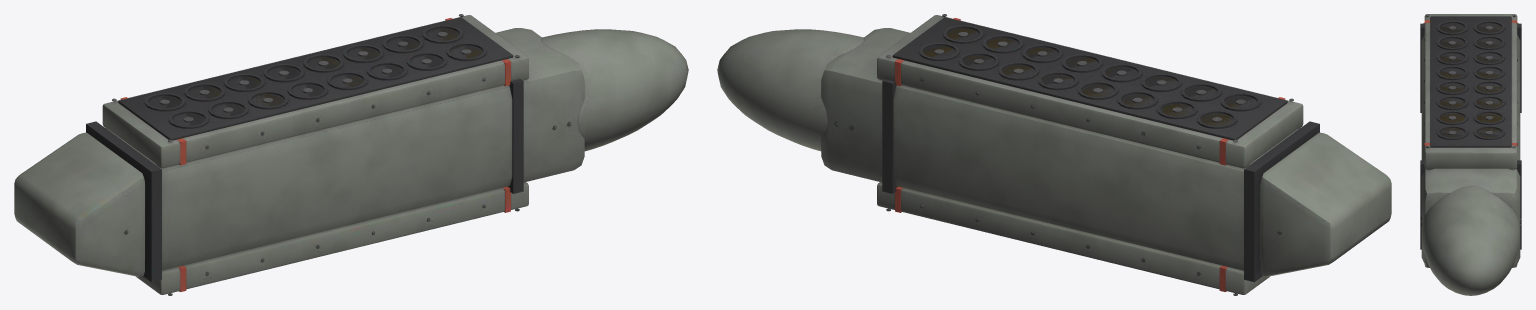
The model's file is flares_3.glb.
3 views of the same model, side by side, from view 1: azimuth 30°, elevation 25°; view 2: azimuth 150°, elevation 25°; view 3: azimuth 270°, elevation 25° (orthographic). The views are drawn at different scales.
Visible parts, largest first — view 1: flares_3; view 2: flares_3; view 3: flares_3.
Part boxes in pixels (x1=…): flares_3: x1=14, y1=14, x2=688, y2=295; flares_3: x1=717, y1=14, x2=1391, y2=295; flares_3: x1=1420, y1=14, x2=1521, y2=295.
Bounding box in the file's own units: 0.87 × 0.204 × 0.154.
5 materials, 5 textured.
